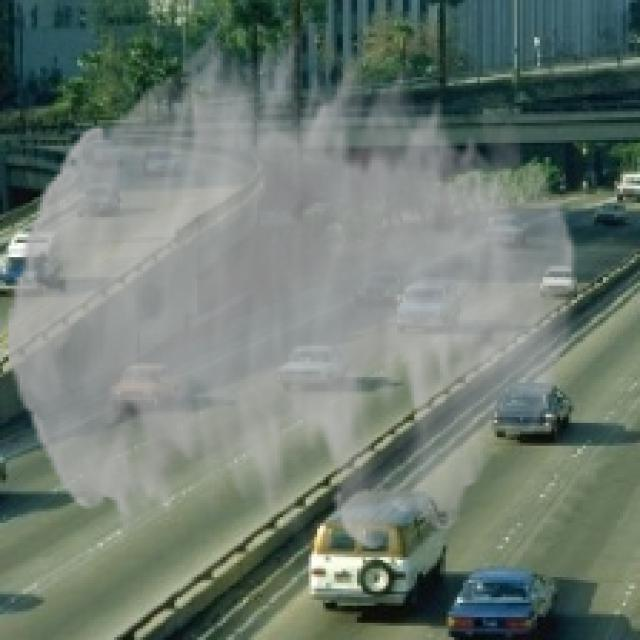smoke: (9, 31, 577, 548)
